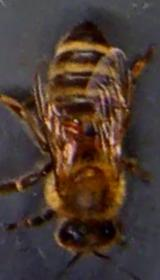varroa_mite: (58, 116, 82, 136)
